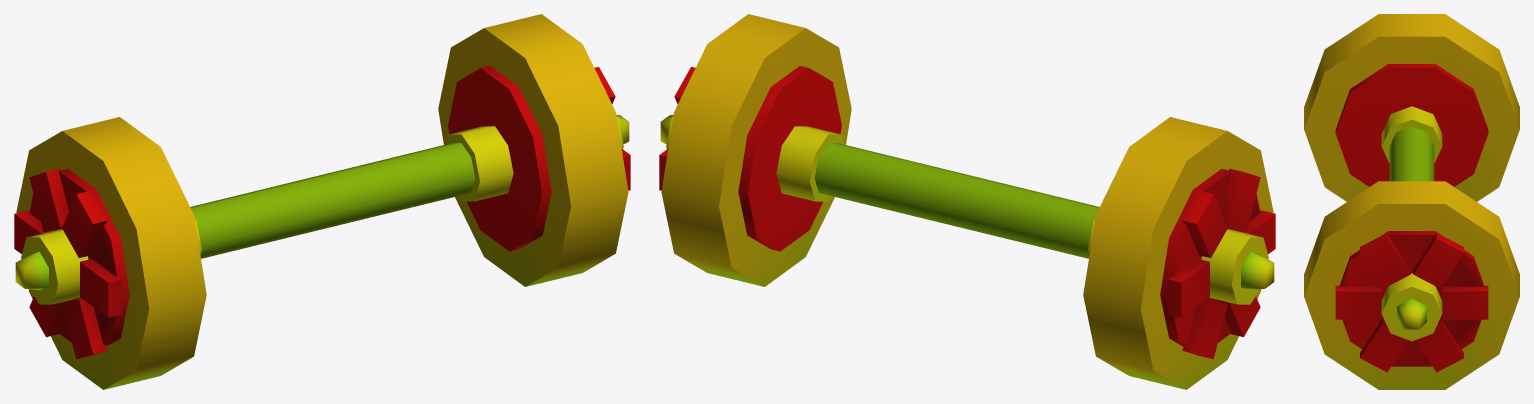
The model's file is RobotRocket_wheel1_LOD1.glb.
The picture shows the model from 3 angles, left to right: view 1: azimuth 30°, elevation 25°; view 2: azimuth 150°, elevation 25°; view 3: azimuth 270°, elevation 25°; orthographic projection. The views are drawn at different scales.
Parts seen in each view (by area): view 1: RobotRocket_wheel1_LOD1; view 2: RobotRocket_wheel1_LOD1; view 3: RobotRocket_wheel1_LOD1.
Boxes of the visible parts, x1=… form: RobotRocket_wheel1_LOD1: x1=14, y1=14, x2=630, y2=389; RobotRocket_wheel1_LOD1: x1=659, y1=14, x2=1275, y2=389; RobotRocket_wheel1_LOD1: x1=1304, y1=14, x2=1519, y2=389.
Size of the model in its own units: 2.14 by 0.7761 by 0.816.
